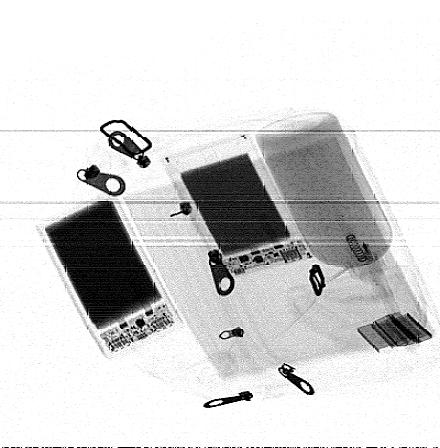Powerbank: (37, 192, 185, 360), (161, 132, 315, 279)
